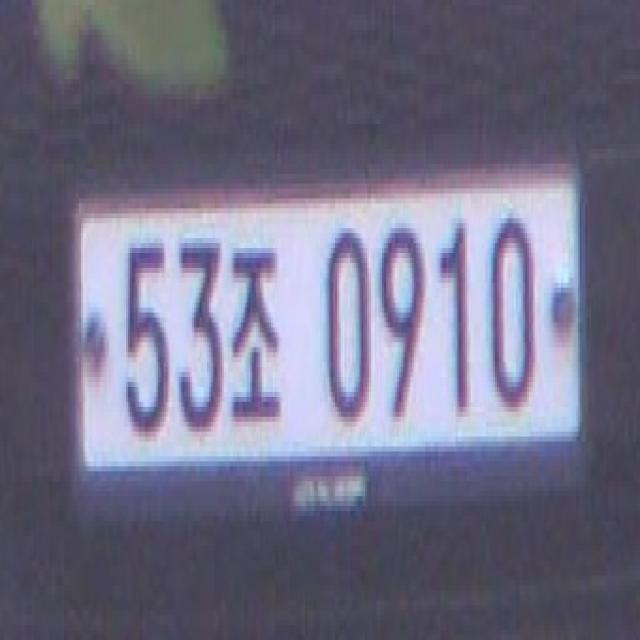0: (484, 213, 548, 437), (322, 218, 374, 452)
1: (424, 188, 478, 462)
3: (172, 228, 220, 442)
5: (121, 238, 175, 457)
9: (376, 188, 433, 446)
jo: (232, 223, 292, 432)
license_plate: (70, 164, 586, 536)
